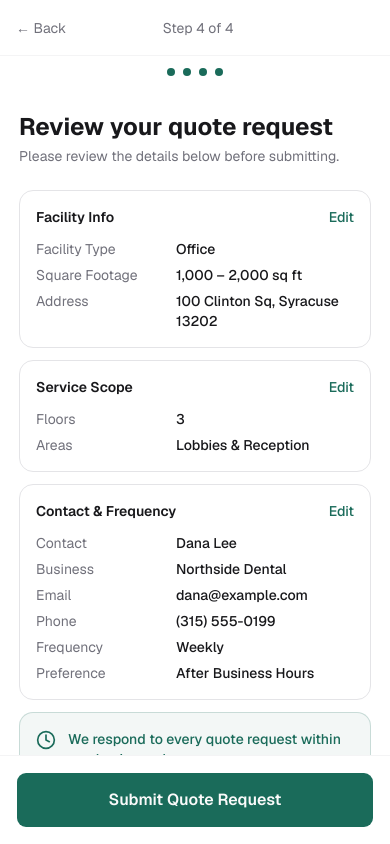
commercial review: submit failures › shows the service-unavailable screen when the database could not be reached
Click the button "Submit Quote Request": (195, 800) top-left (16, 772), bottom-right (374, 828)
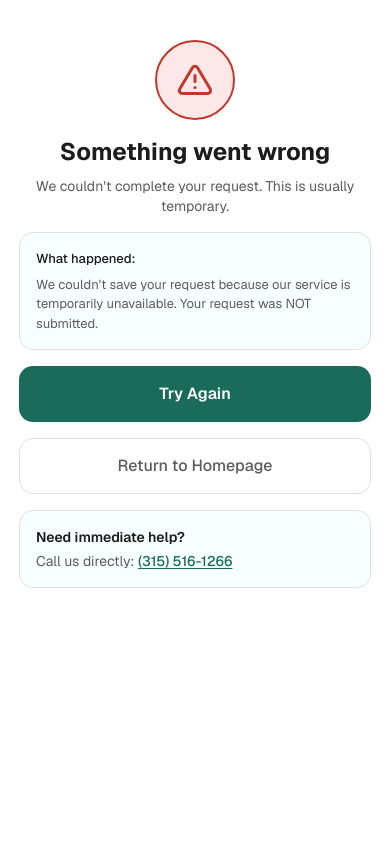
expect the heading "Something went wrong" is shown: met, box top-left (60, 136), bottom-right (330, 167)
expect the text "Review" is gone: met
